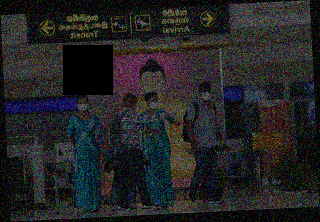with_mask: (199, 88, 212, 102), (76, 100, 88, 112), (149, 98, 158, 110)
without_mask: (128, 100, 139, 113)
